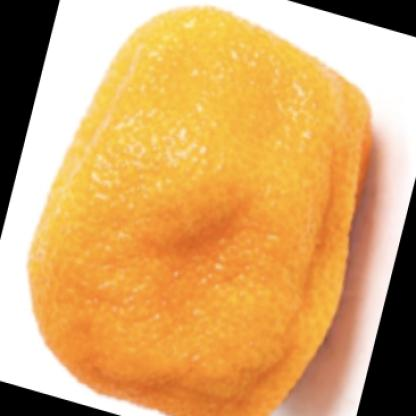rotten: (30, 10, 370, 416)
